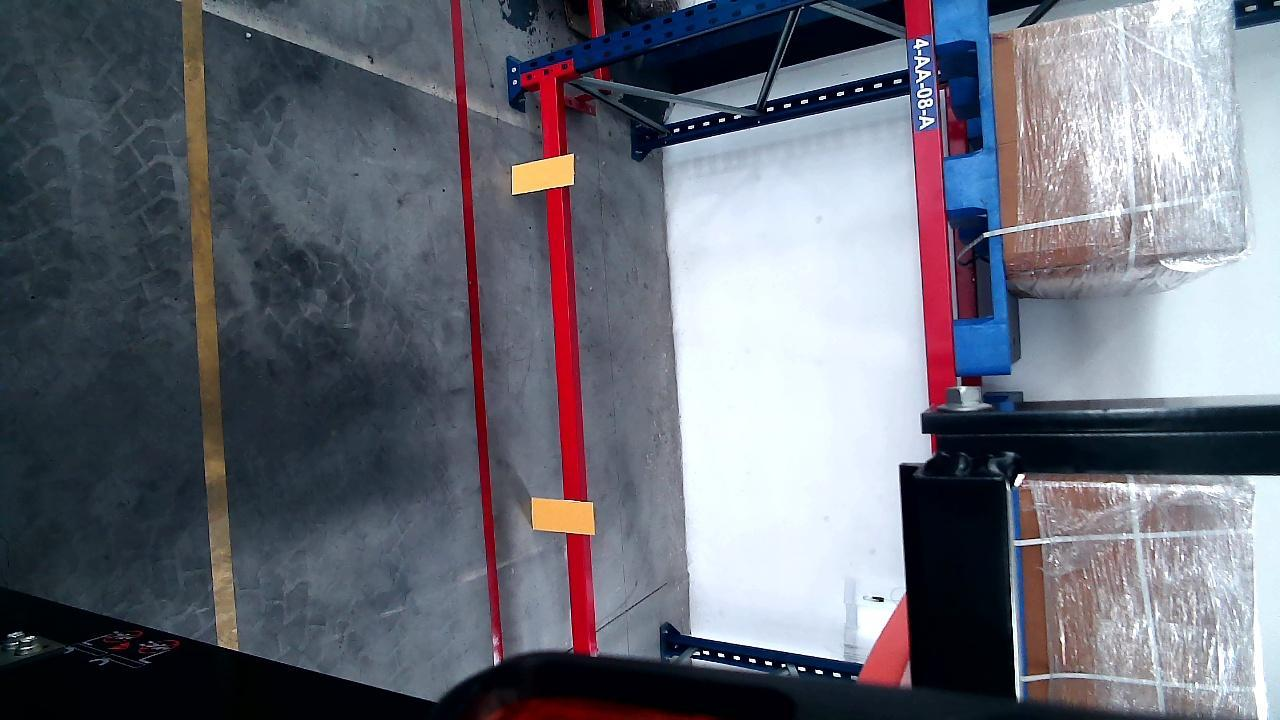red_line: (449, 1, 506, 666)
yellow_line: (181, 0, 239, 651)
